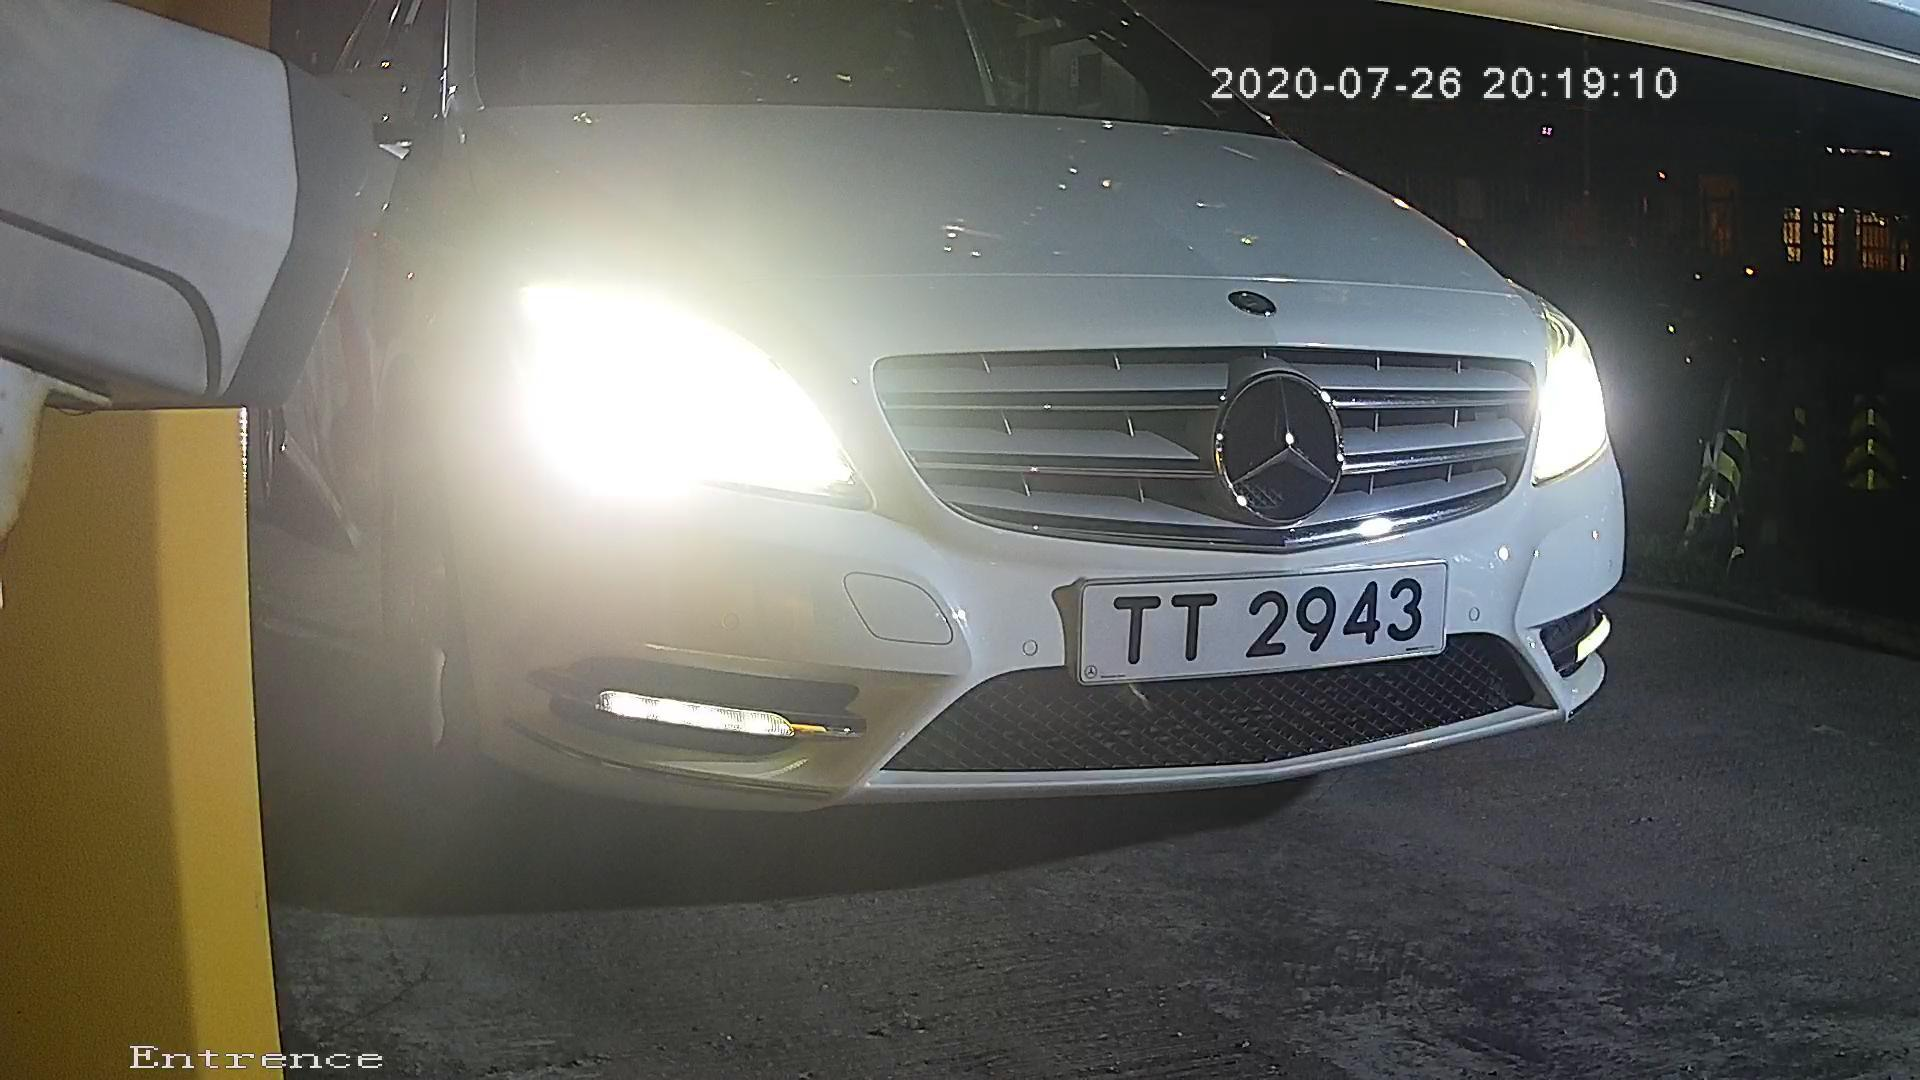License Plate: (1021, 545, 1475, 695)
